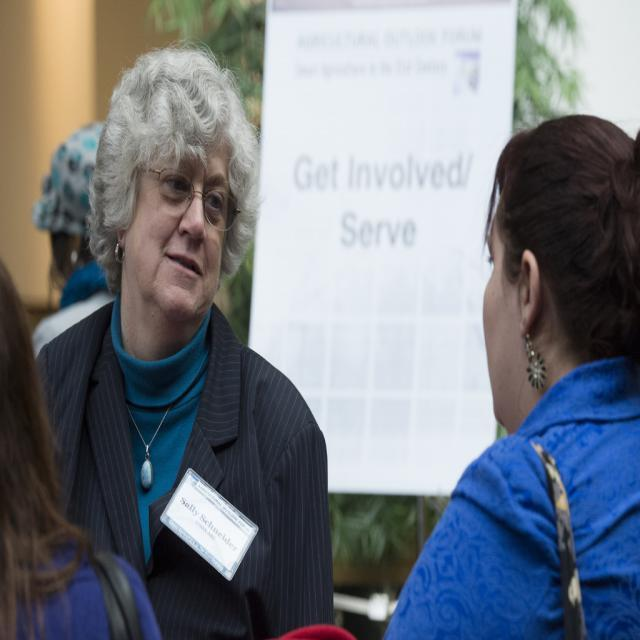closed-mouth: (159, 238, 206, 300)
